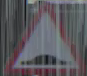Speed Breaker ahead: (11, 8, 76, 69)
